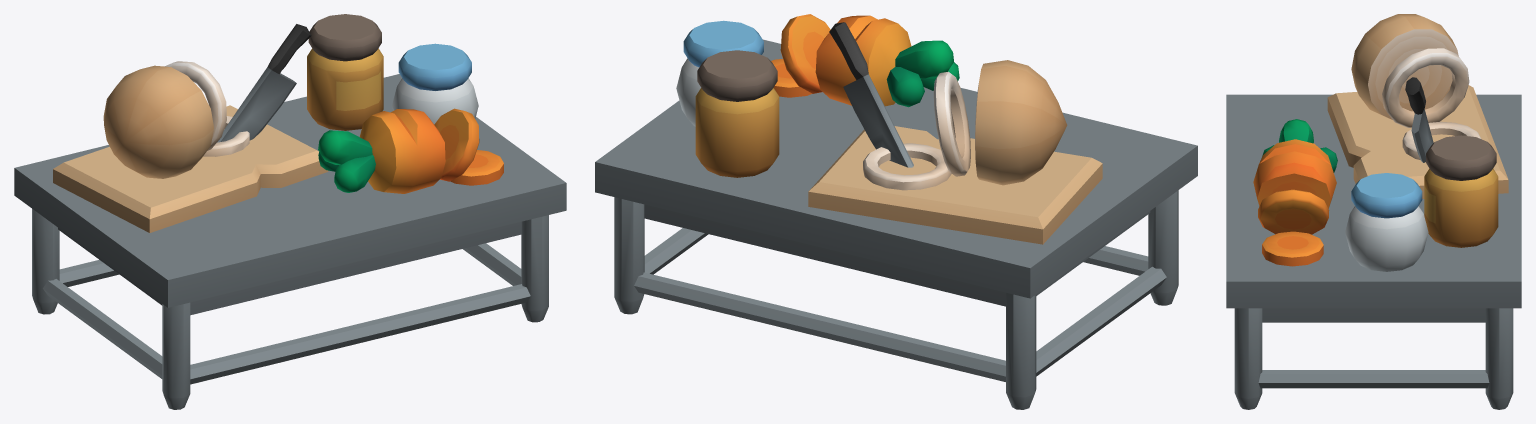
Rendered from kitchentable_A_large_decorated_A.obj.
The picture shows the model from 3 angles, left to right: view 1: azimuth 30°, elevation 25°; view 2: azimuth 150°, elevation 25°; view 3: azimuth 270°, elevation 25°; orthographic projection. The views are drawn at different scales.
Visible parts, largest first — view 1: kitchentable_A_large_decorated_A_Cube.018; view 2: kitchentable_A_large_decorated_A_Cube.018; view 3: kitchentable_A_large_decorated_A_Cube.018.
Boxes of the visible parts, <box> form: kitchentable_A_large_decorated_A_Cube.018: <box>14,14,566,409</box>; kitchentable_A_large_decorated_A_Cube.018: <box>595,14,1197,409</box>; kitchentable_A_large_decorated_A_Cube.018: <box>1226,14,1521,409</box>.
Bounding box in the file's own units: 3 × 1.93 × 2.
1 material, 1 textured.
